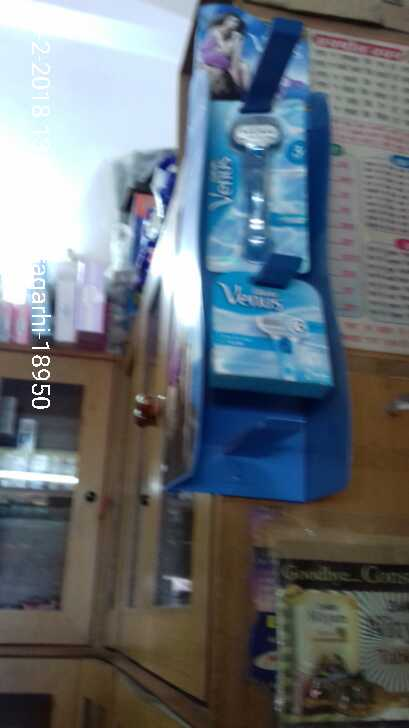venus: (206, 98, 308, 265), (206, 268, 335, 392)
